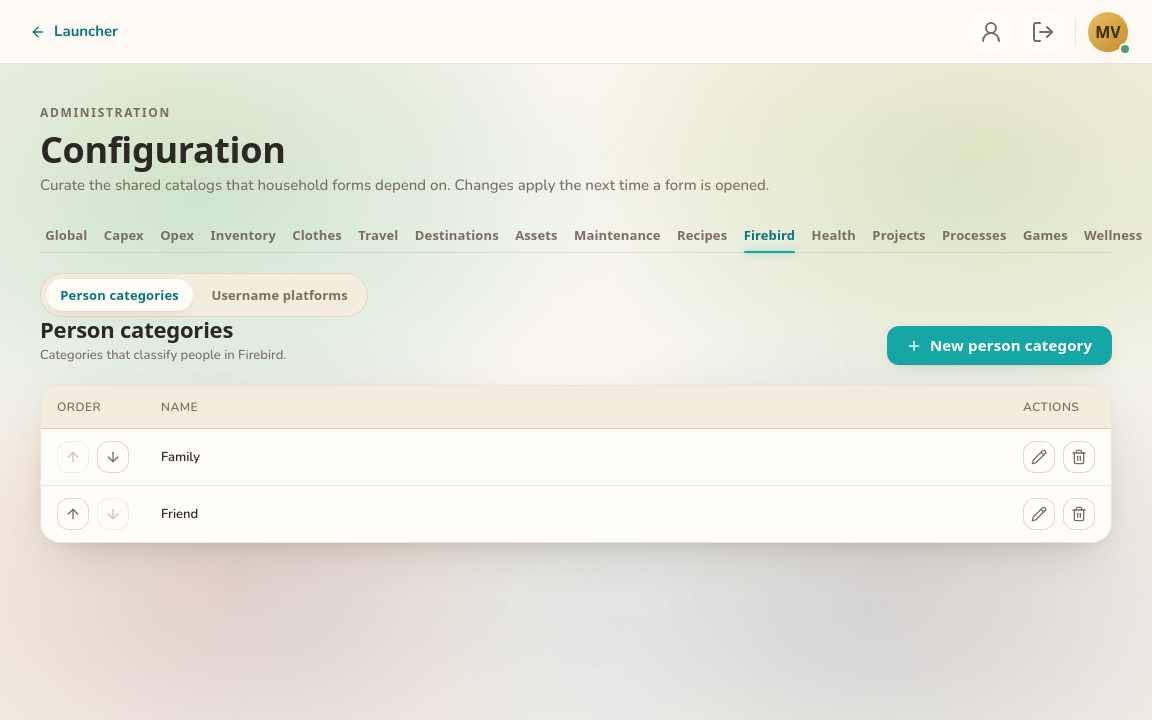
Test: Configuration navigation and states › shows the Firebird catalog tabs
The width and height of the screenshot is (1152, 720).
expect the heading "Person categories" is shown: met, box [40,314,233,344]
expect the text "Family" is shown: met, box [145,429,1007,486]
Step 1. Click the tab "Username platforms" → (280, 295), box [197,279,362,311]
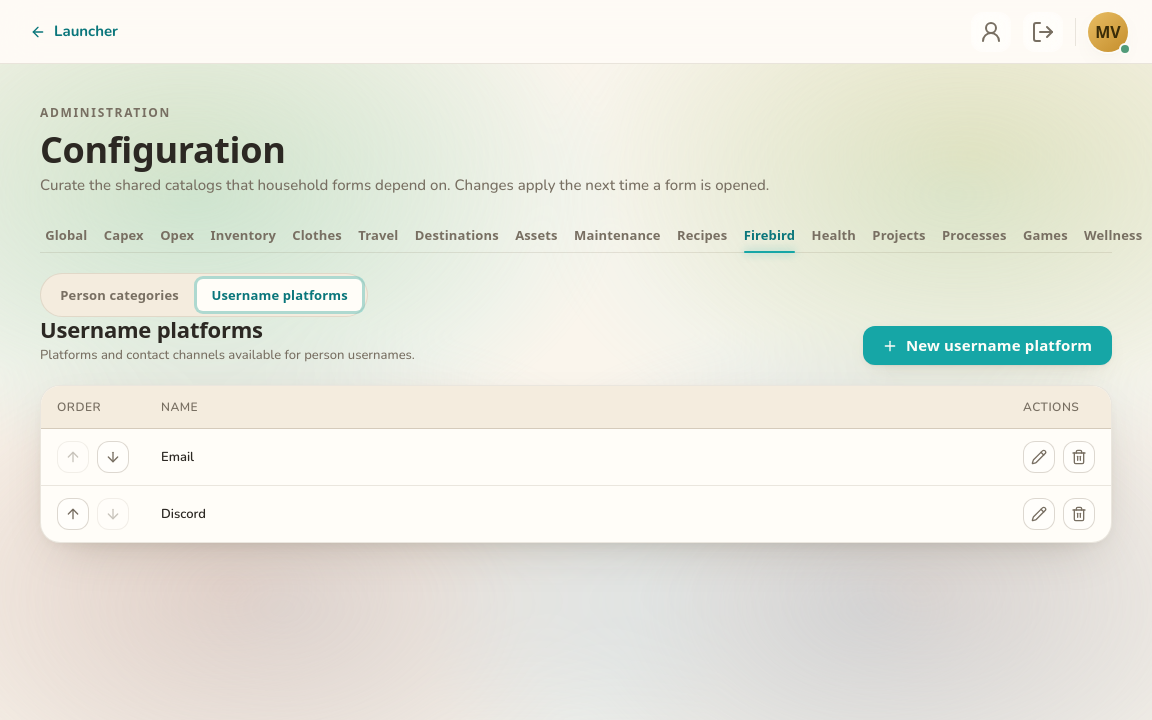
expect the heading "Username platforms" is shown: met, box [40,314,263,344]
expect the text "Discord" is shown: met, box [145,486,1007,542]
